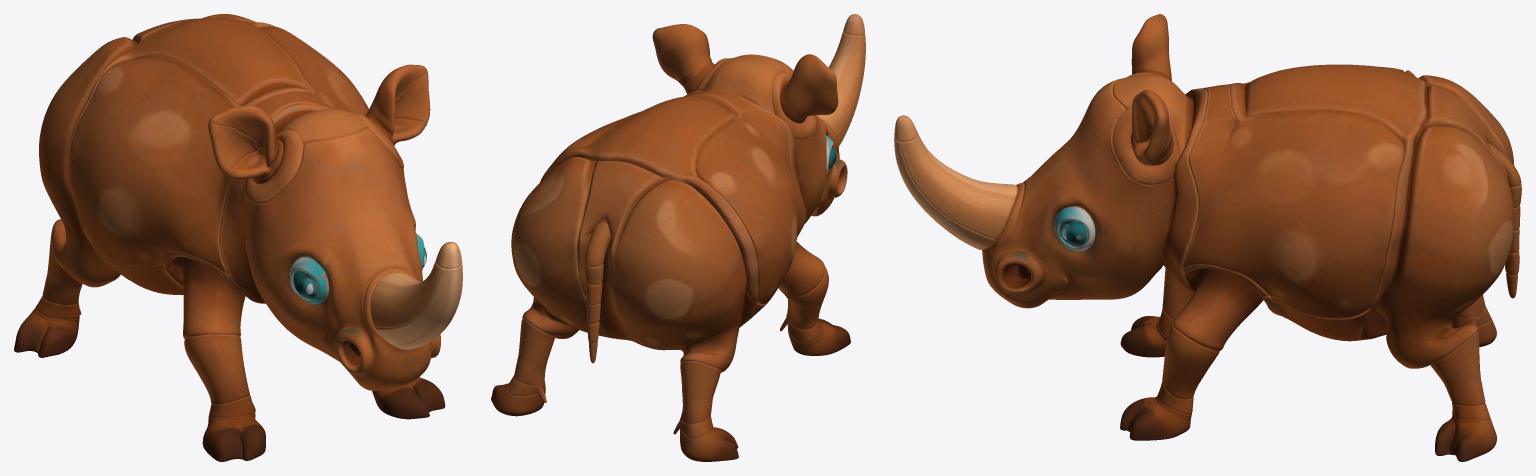
The model's file is beetle.glb.
3 renders of one model, left to right at view 1: azimuth 30°, elevation 25°; view 2: azimuth 150°, elevation 25°; view 3: azimuth 270°, elevation 25°, orthographic. The views are drawn at different scales.
Size of the model in its own units: 1 by 1.13 by 1.9.
Materials: 1 (1 with a texture image).
